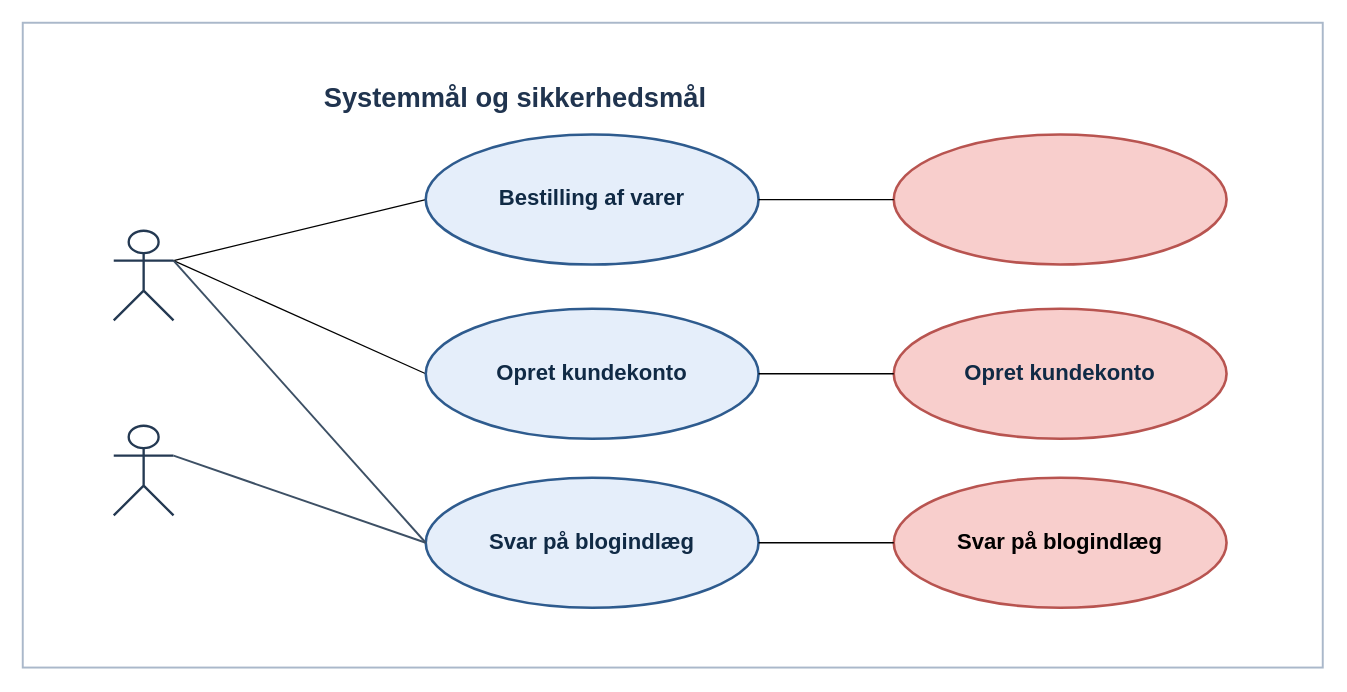
The diagram is 1347 pixels wide and 692 high, and some of its shapes have lost their labels. The shapes that lost their labels are listed below. From the top down, each one's box as (x1, y1, x2, y2) in pixels, then its label:
(112, 229, 174, 321): verificeret kunde
(112, 424, 174, 516): Annonym
